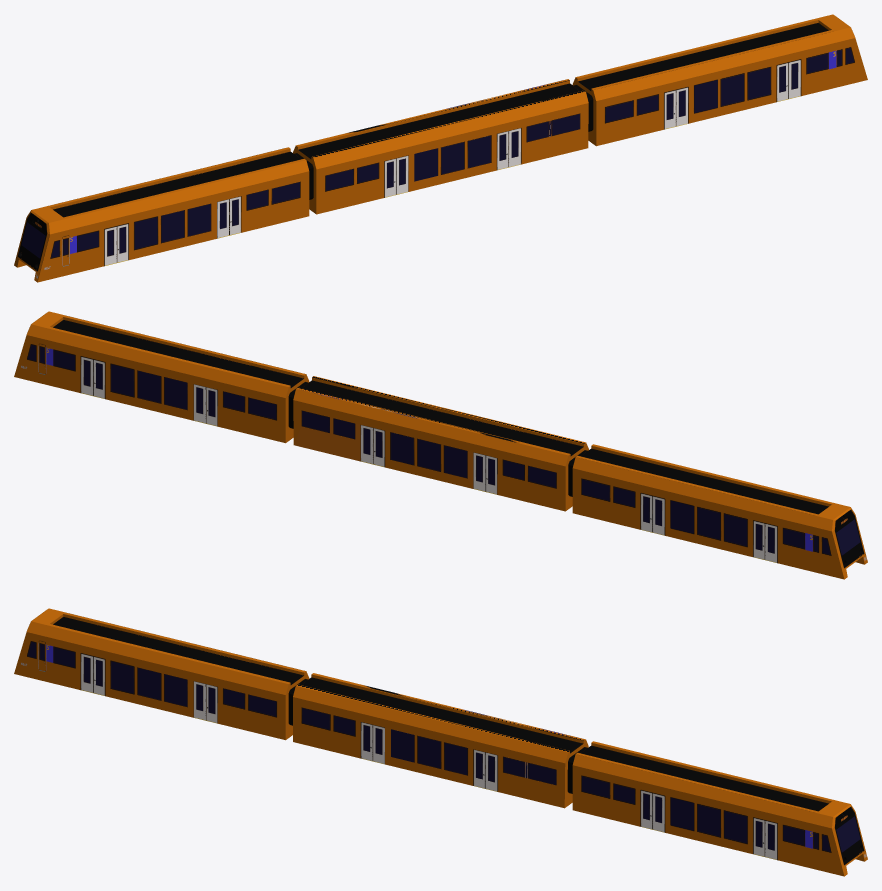
The model's file is train.glb.
The picture shows the model from 3 angles, top to bottom: view 1: azimuth 30°, elevation 25°; view 2: azimuth 150°, elevation 25°; view 3: azimuth 330°, elevation 25°; orthographic projection.
Visible parts, largest first — view 1: back, middle, front; view 2: back, middle, front; view 3: front, middle, back.
Boxes of the visible parts, x1,y1,x2,y2 form: back: [14, 147, 309, 282]; middle: [293, 79, 588, 214]; front: [572, 14, 867, 146]; back: [572, 444, 867, 579]; middle: [293, 376, 588, 511]; front: [14, 311, 309, 443]; front: [572, 741, 867, 876]; middle: [293, 673, 588, 808]; back: [14, 608, 309, 740].
Bounding box in the file's own units: 48.3 × 3 × 2.37.
5 materials, 4 textured.
